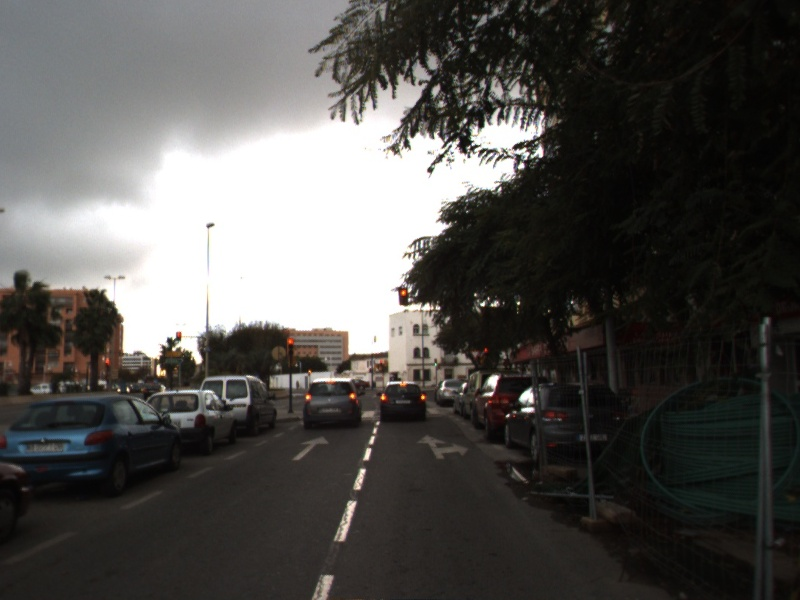STRAIGHT: (291, 435, 331, 461)
STRAIGHT_RIGHT: (415, 433, 470, 460)
